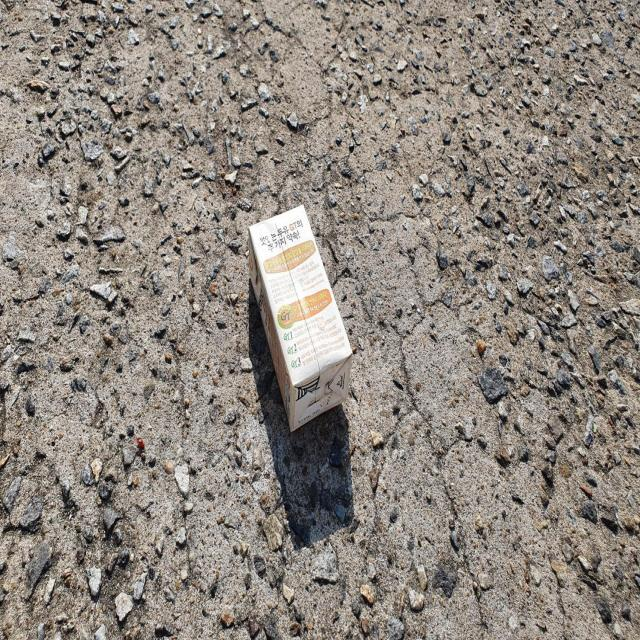paperpack: (248, 204, 352, 431)
